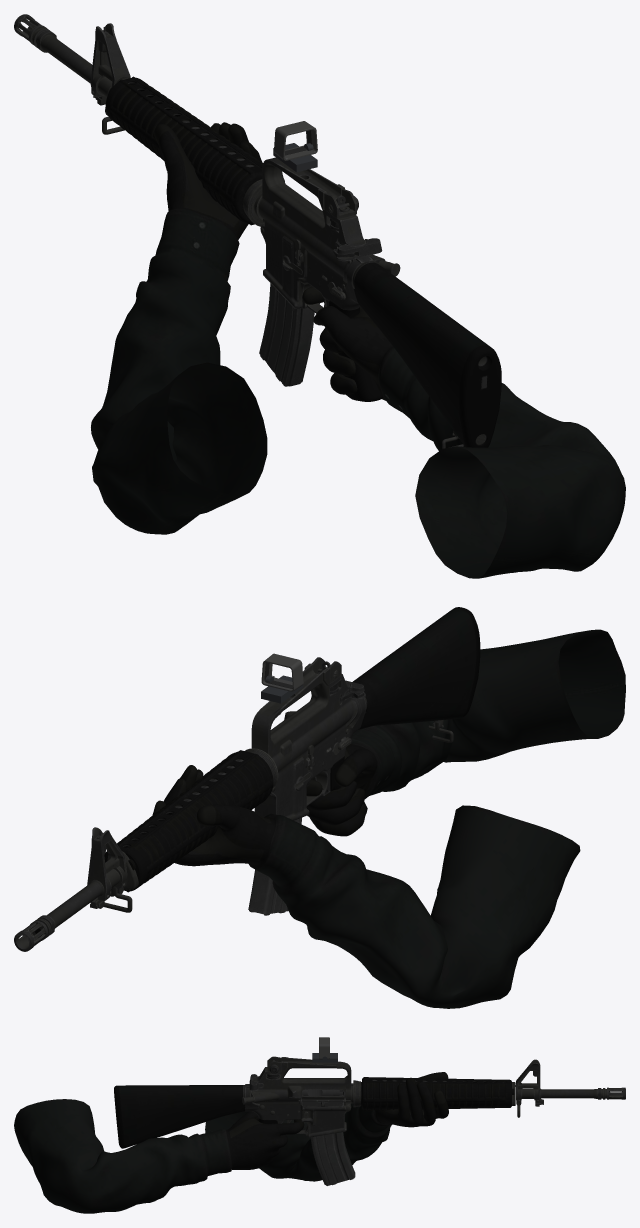
The model's file is weapon_rifle.glb.
The picture shows the model from 3 angles, top to bottom: view 1: azimuth 30°, elevation 25°; view 2: azimuth 150°, elevation 25°; view 3: azimuth 270°, elevation 25°; orthographic projection. The views are drawn at different scales.
Parts seen in each view (by area): view 1: Object_67_hero, m16a2_base_m16a2_0_hero, magazine_m16a2_0_hero, ReflexHood; view 2: Object_67_hero, m16a2_base_m16a2_0_hero, magazine_m16a2_0_hero, ReflexHood; view 3: Object_67_hero, m16a2_base_m16a2_0_hero, magazine_m16a2_0_hero, m16a2_ejection_port_cover_m16a2_0_hero.
Boxes of the visible parts, bbox=[...] form: Object_67_hero: bbox=[91, 122, 625, 578]; m16a2_base_m16a2_0_hero: bbox=[14, 14, 501, 448]; magazine_m16a2_0_hero: bbox=[259, 283, 314, 386]; ReflexHood: bbox=[274, 121, 317, 160]; Object_67_hero: bbox=[152, 629, 625, 1008]; m16a2_base_m16a2_0_hero: bbox=[14, 607, 480, 951]; magazine_m16a2_0_hero: bbox=[248, 818, 301, 915]; ReflexHood: bbox=[261, 653, 303, 691]; Object_67_hero: bbox=[14, 1072, 448, 1213]; m16a2_base_m16a2_0_hero: bbox=[114, 1056, 625, 1148]; magazine_m16a2_0_hero: bbox=[310, 1132, 355, 1185]; m16a2_ejection_port_cover_m16a2_0_hero: bbox=[298, 1100, 350, 1107].
Size of the model in its own units: 0.456 by 0.4436 by 1.33.
6 materials, 2 textured.
